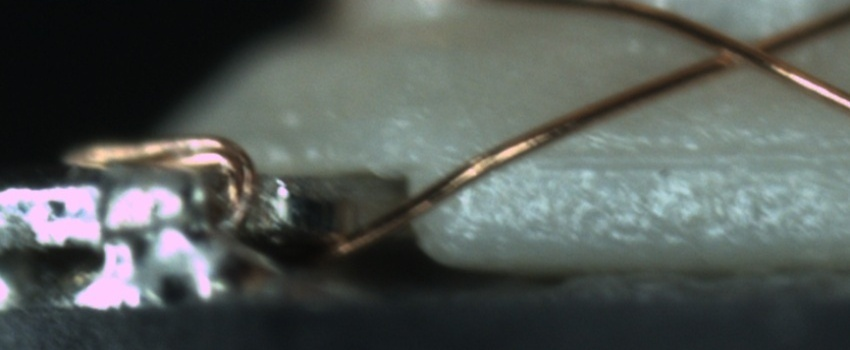CL: (687, 21, 808, 76)
DL: (529, 127, 849, 189)
TE: (54, 127, 262, 233)
